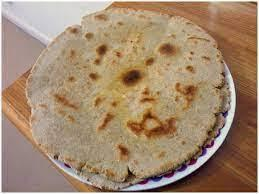bhakri: (27, 18, 215, 179)
